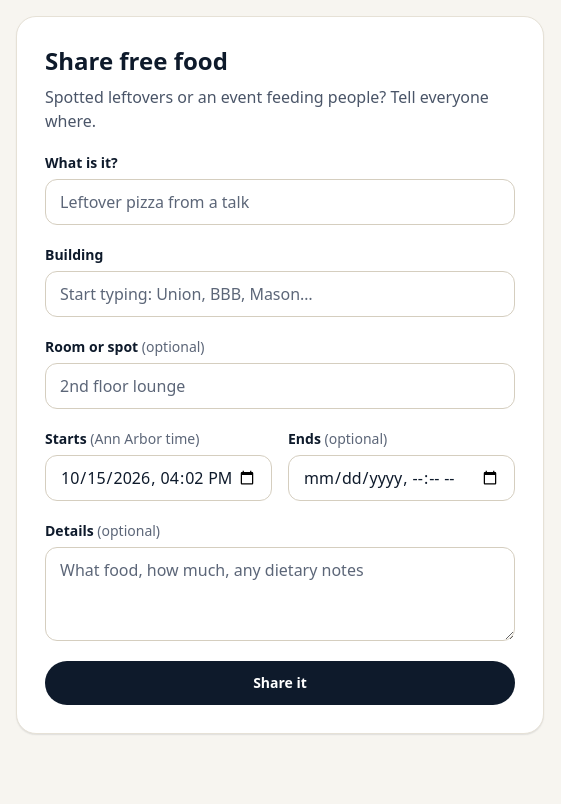
Test: SubmitPage › shows field errors and sends nothing when the form is incomplete
Step 1. Type "x" into the field labelled "What is it?" → (280, 202), box [45,179,515,225]
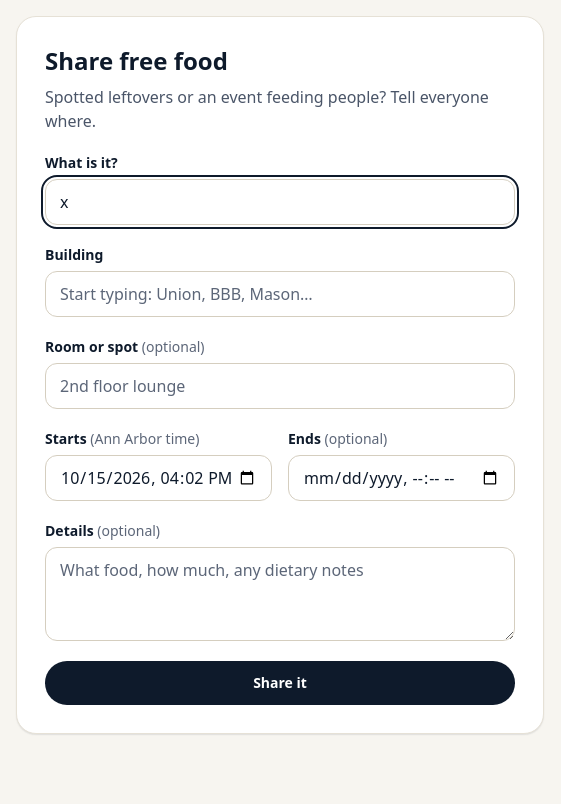
Note: Typed, but never picked from the list.
Step 2. Type "somewhere" into the dropdown labelled "Building" → (280, 294), box [45,271,515,317]
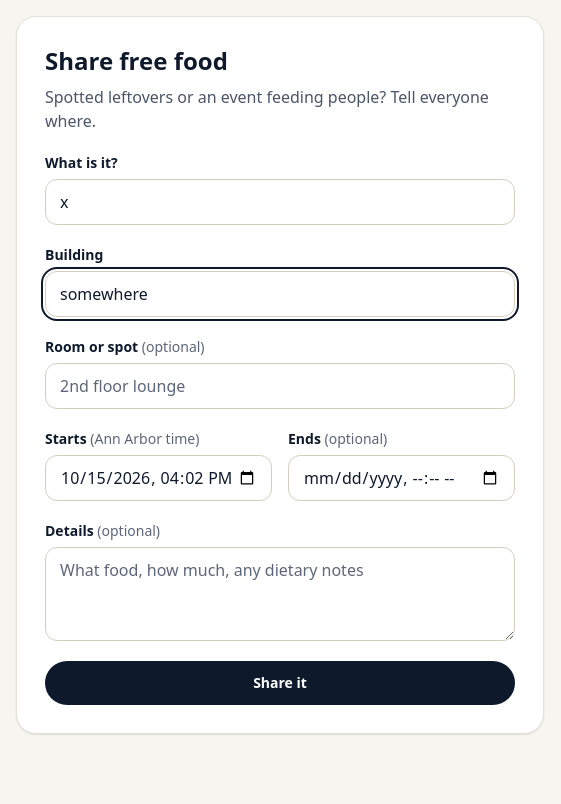
Step 3. Click the button "Share it" → click(280, 683), box [45,661,515,705]
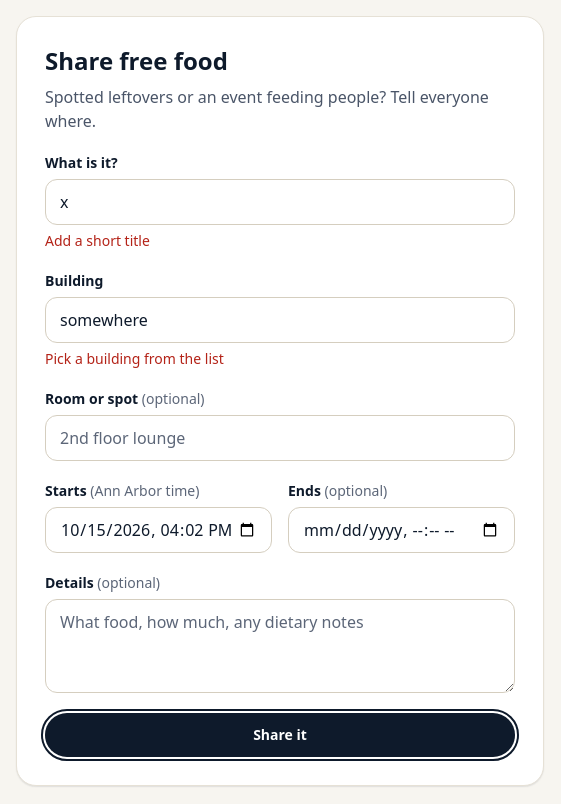
Expected: the messages read "Add a short title", "Pick a building from the list", in this order, [45,231,150,250]; [45,349,224,368]
